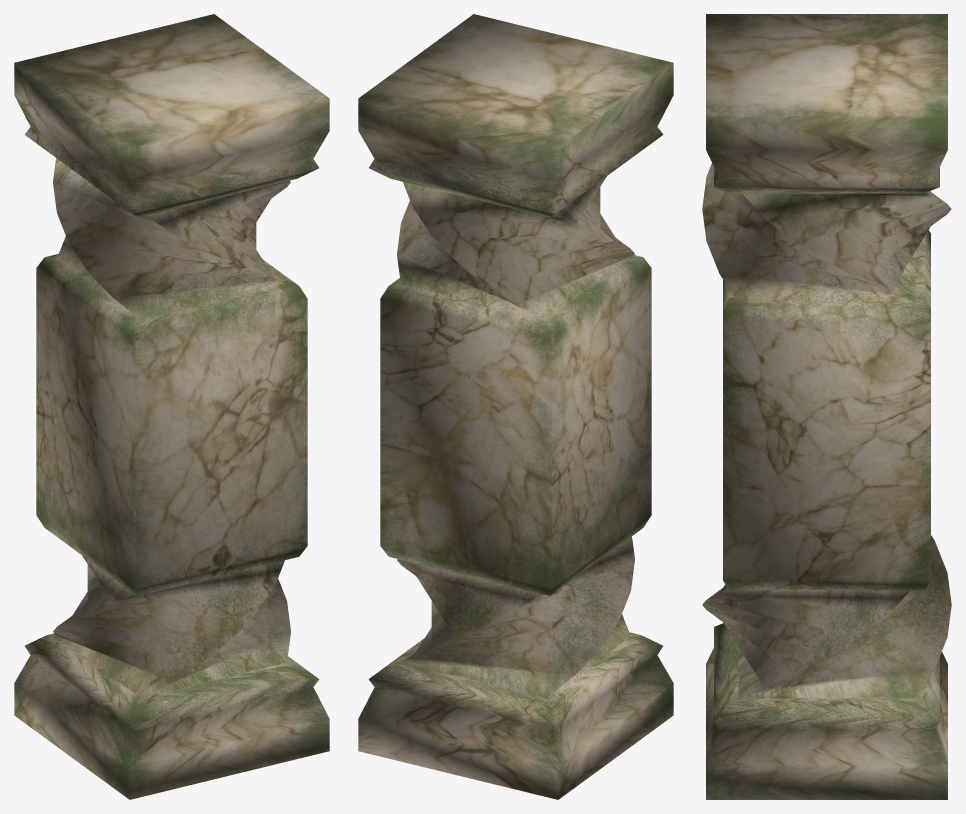
File: pilar.glb
3 views of the same model, side by side, from view 1: azimuth 30°, elevation 25°; view 2: azimuth 150°, elevation 25°; view 3: azimuth 270°, elevation 25° (orthographic). The views are drawn at different scales.
Visible parts, largest first — view 1: Plane.003; view 2: Plane.003; view 3: Plane.003.
Part boxes in pixels (x1,y1,x2,y2): Plane.003: [14, 14, 329, 799]; Plane.003: [358, 14, 673, 799]; Plane.003: [702, 14, 951, 799].
Bounding box in the file's own units: 0.7168 × 2.17 × 0.7168.
1 material, 1 textured.
